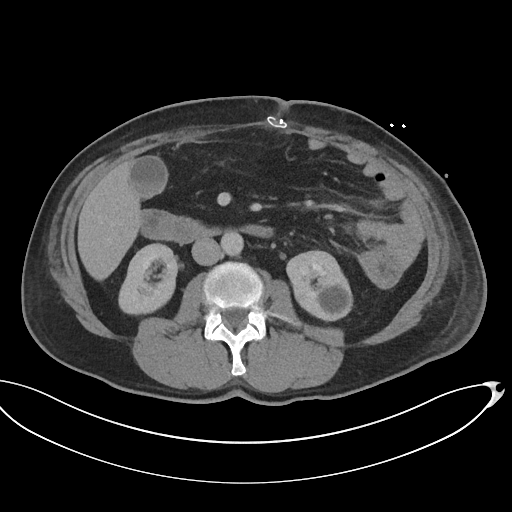Lesion: (312, 282, 353, 317)
